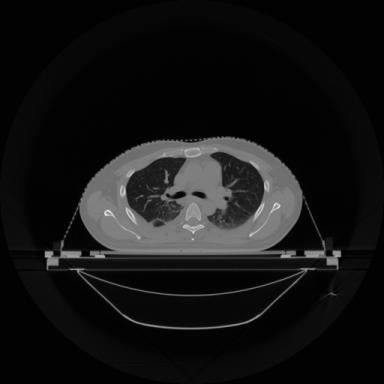body: (80, 137, 302, 252)
cord: (182, 203, 205, 237)
paru kanan: (126, 158, 185, 222)
paru kiri: (208, 152, 264, 228)
